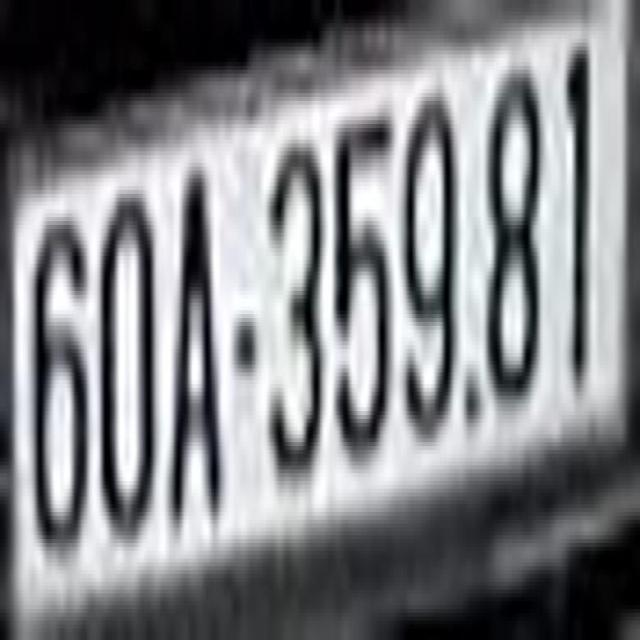0: (98, 190, 155, 547)
1: (566, 39, 598, 392)
3: (266, 132, 323, 492)
5: (331, 113, 393, 473)
6: (33, 202, 91, 547)
8: (488, 58, 542, 411)
9: (404, 93, 454, 442)
A: (167, 175, 224, 512)
